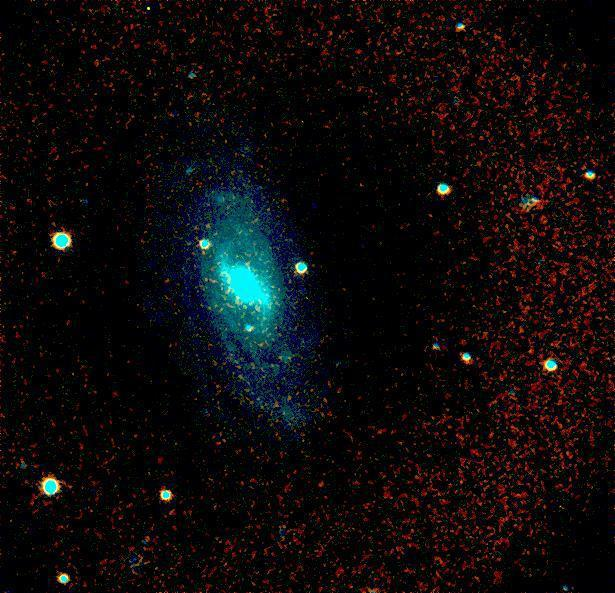star: (248, 386, 278, 416)
